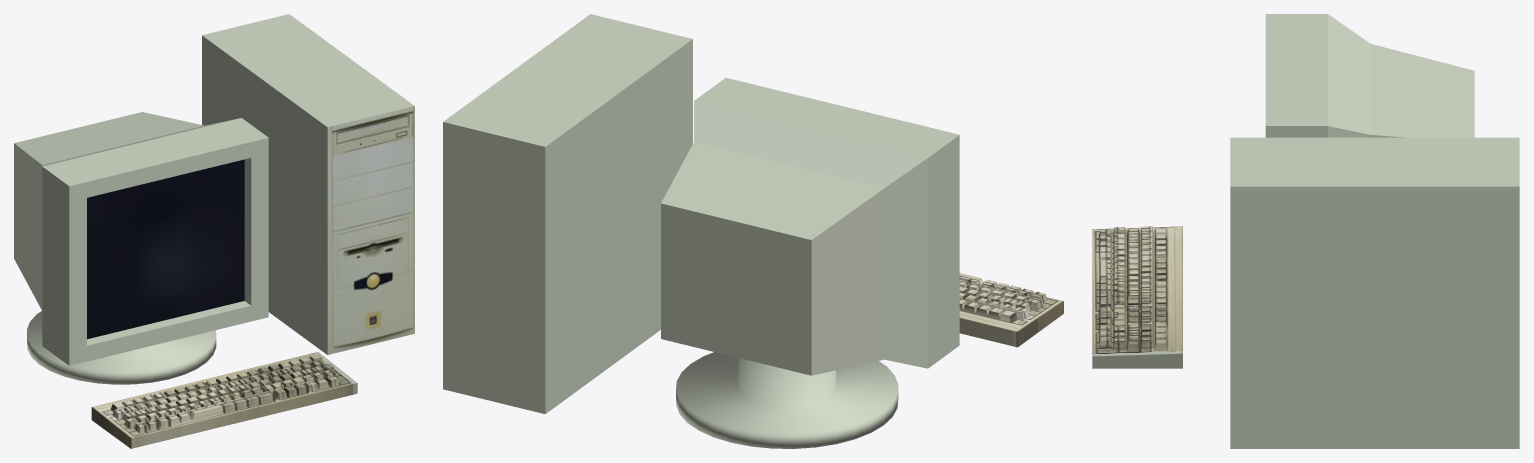
Rendered from Desktop.fbx.
3 views of the same model, side by side, from view 1: azimuth 30°, elevation 25°; view 2: azimuth 150°, elevation 25°; view 3: azimuth 270°, elevation 25° (orthographic). The views are drawn at different scales.
Parts seen in each view (by area): view 1: Desktop; view 2: Desktop; view 3: Desktop.
Part boxes in pixels (box(x1,y1,x2,y2)): Desktop: box(14, 14, 414, 448); Desktop: box(443, 14, 1063, 448); Desktop: box(1092, 14, 1519, 448).
Size of the model in its own units: 317 by 201 by 296.
